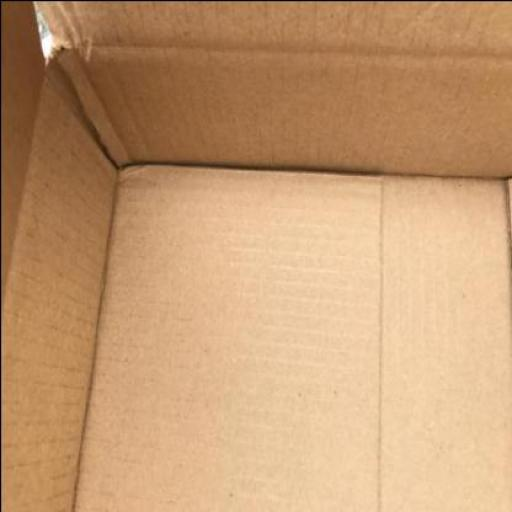cardboard: (1, 1, 511, 511), (69, 160, 511, 511)
